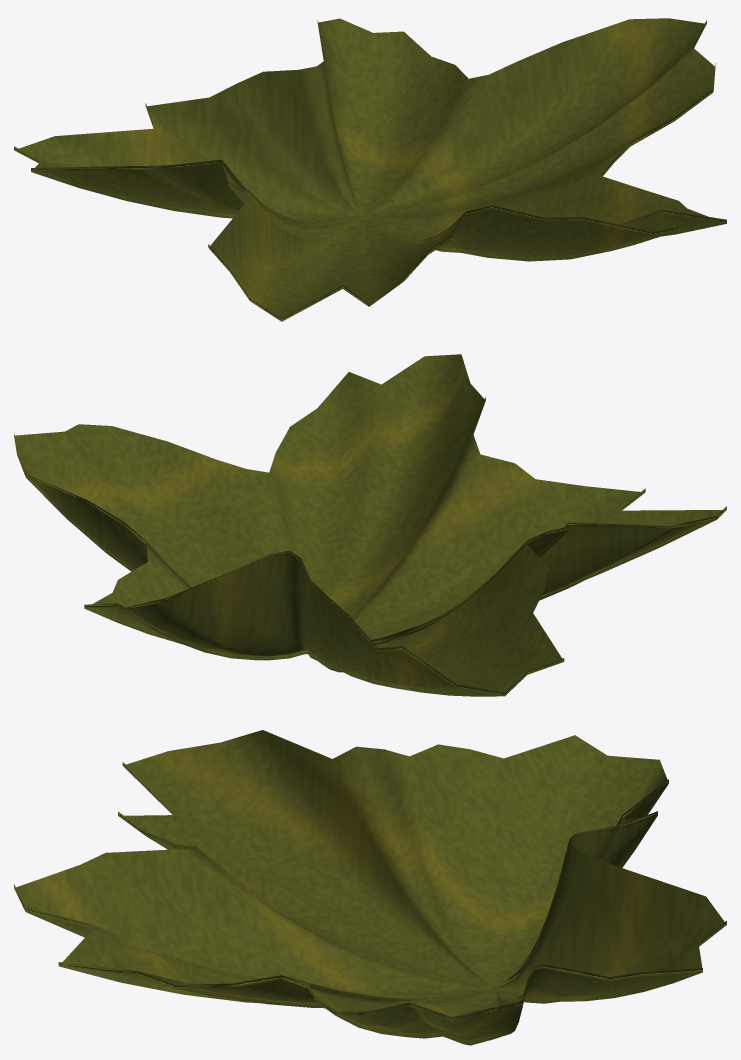
File: leaf-damaged.glb
3 renders of one model, top to bottom at view 1: azimuth 30°, elevation 25°; view 2: azimuth 150°, elevation 25°; view 3: azimuth 270°, elevation 25°, orthographic. The views are drawn at different scales.
Bounding box in the file's own units: 0.6326 × 0.129 × 0.5809.
Materials: 1 (1 with a texture image).
